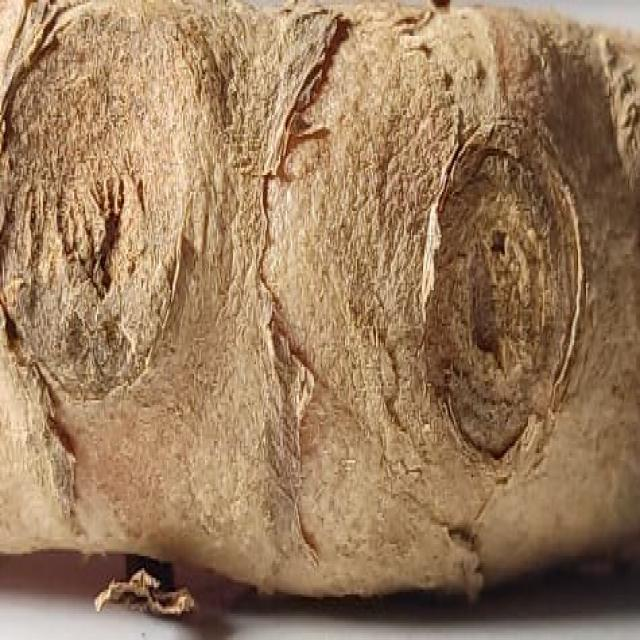ginger: (0, 0, 640, 599)
